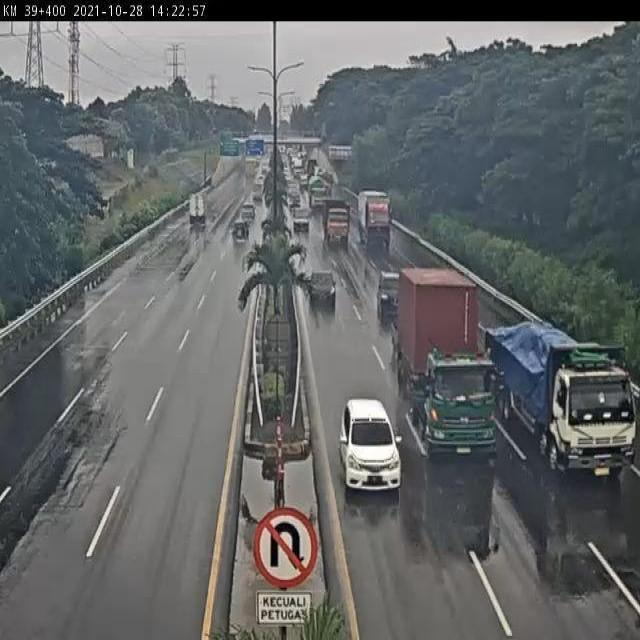truck-l-: (483, 322, 637, 478), (357, 191, 392, 248)
truck-s-: (324, 201, 353, 252)
truck-xl-: (390, 265, 497, 455)
